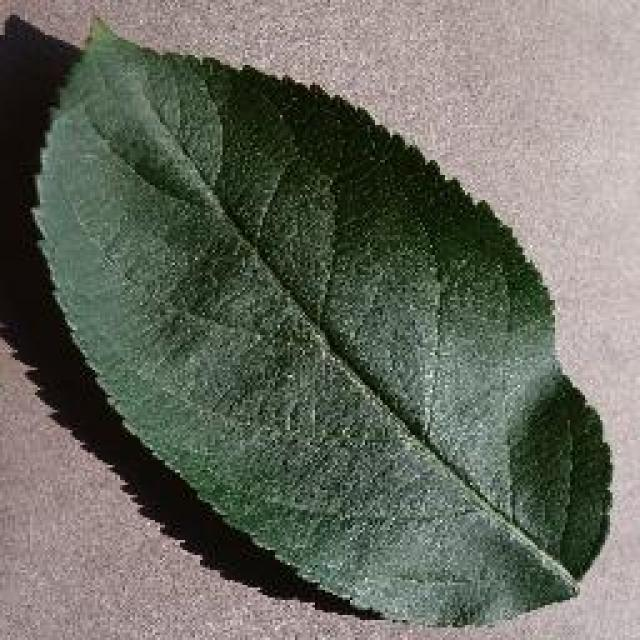apple healthy: (7, 10, 615, 628)
